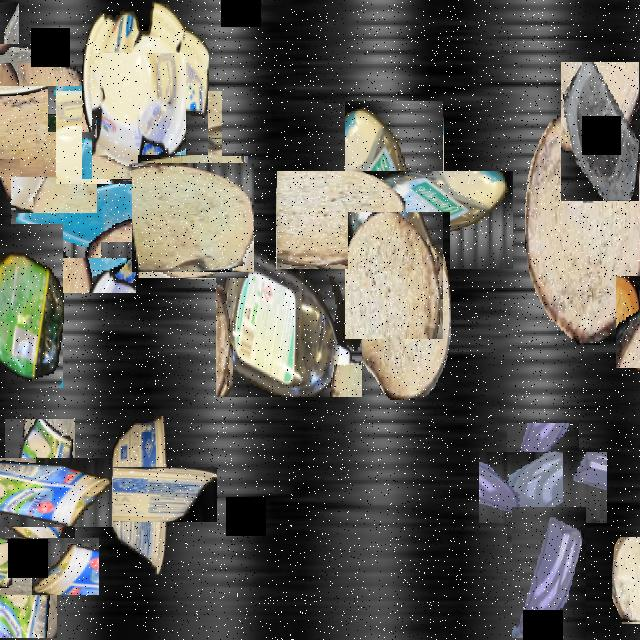glass: (74, 72, 204, 202), (28, 151, 154, 276), (561, 62, 639, 201), (493, 437, 593, 537), (512, 507, 586, 638), (0, 23, 40, 84)
plastic: (310, 136, 478, 304), (82, 2, 208, 180), (216, 247, 362, 397), (86, 441, 192, 547), (0, 224, 63, 388), (0, 438, 94, 546)
wood: (525, 109, 640, 343), (348, 212, 450, 400), (0, 65, 112, 198), (135, 159, 251, 275), (0, 517, 78, 616), (599, 292, 640, 351), (612, 537, 640, 622)
